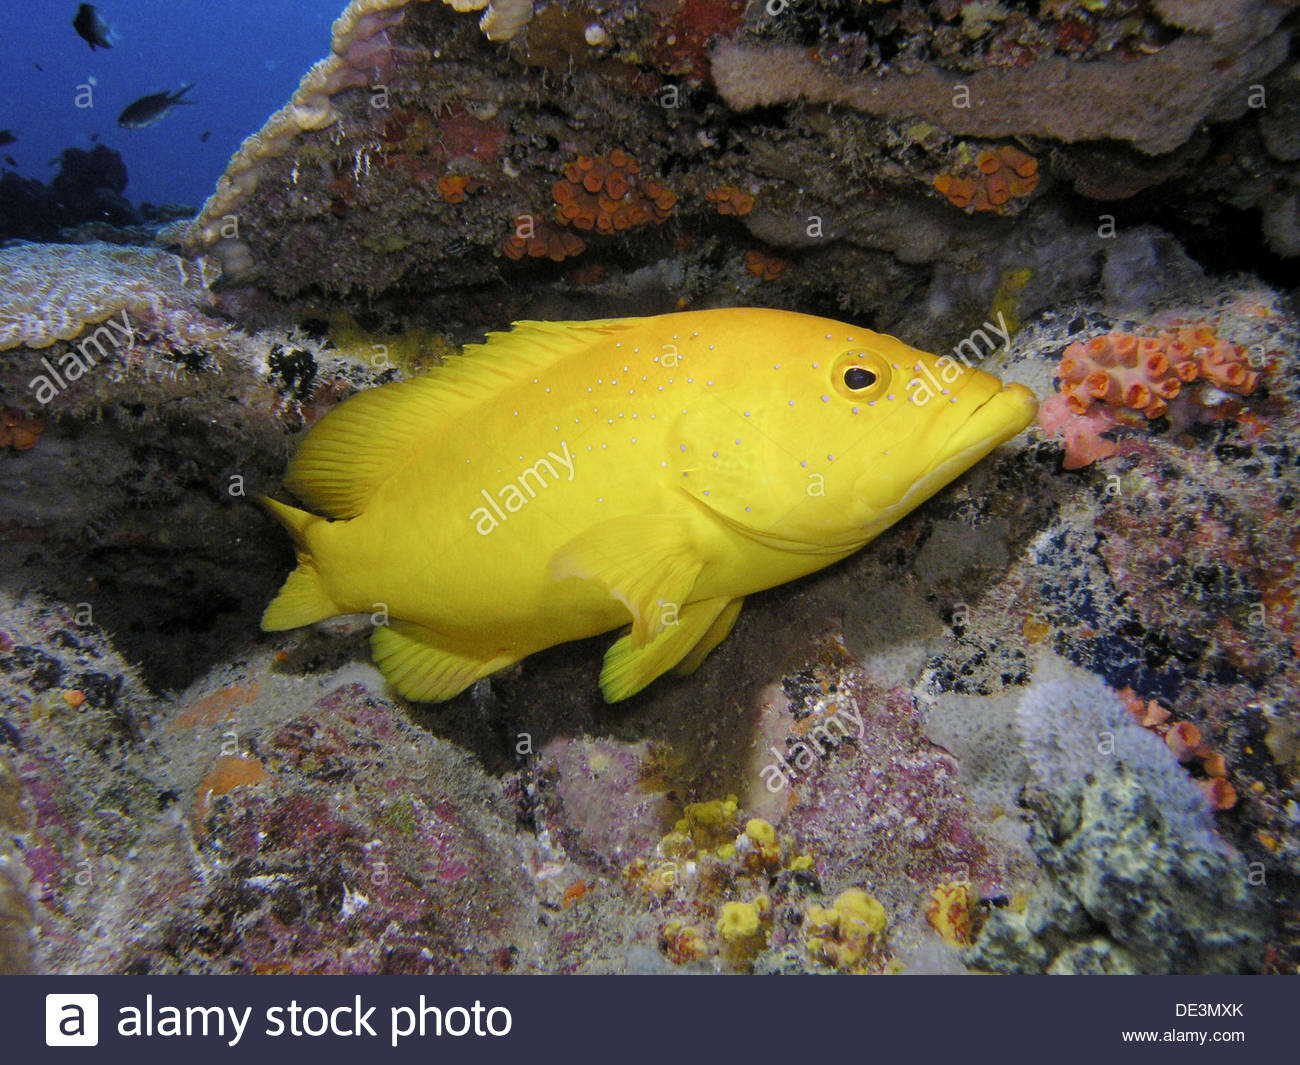Cephalopholis_fulvaw: (246, 248, 1092, 728)
